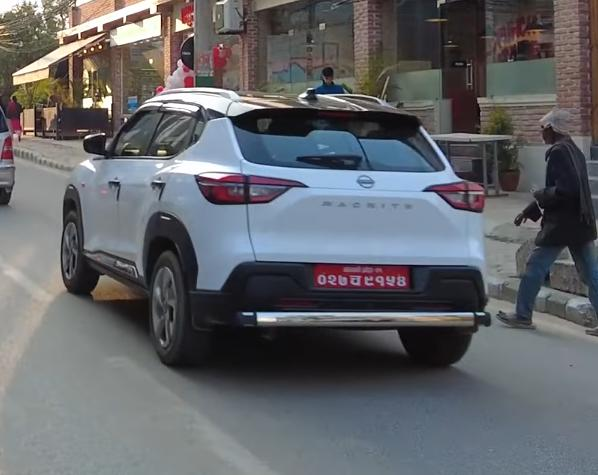car: (54, 82, 500, 370)
